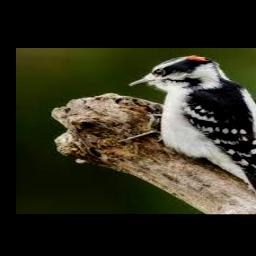Woodpecker: (116, 55, 256, 209)
